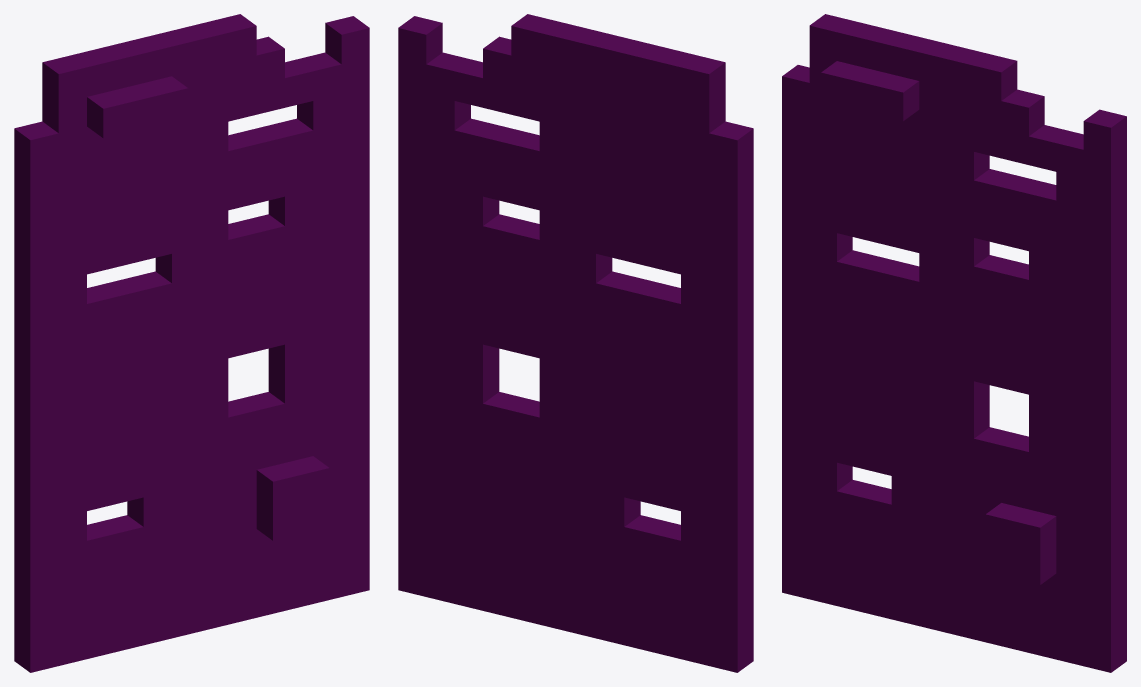
File: wall3.obj
3 renders of one model, left to right at view 1: azimuth 30°, elevation 25°; view 2: azimuth 150°, elevation 25°; view 3: azimuth 330°, elevation 25°, orthographic. The views are drawn at different scales.
Size of the model in its own units: 1.2 by 2 by 0.2.
1 material, 1 textured.
